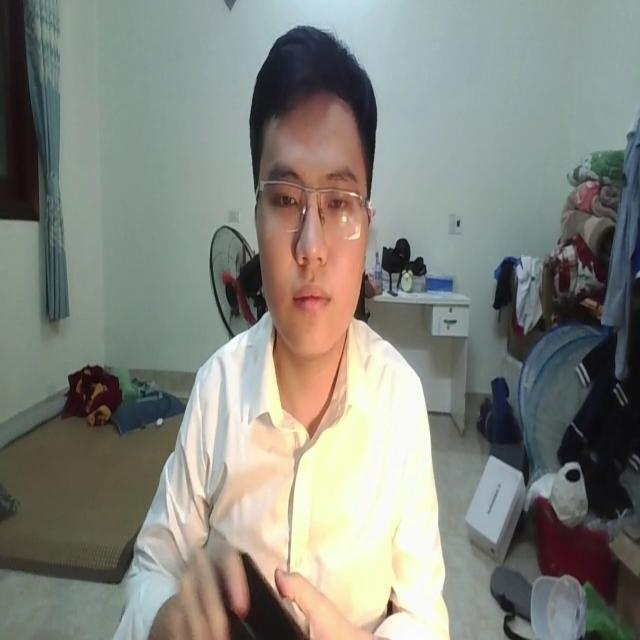student: (93, 19, 450, 640)
